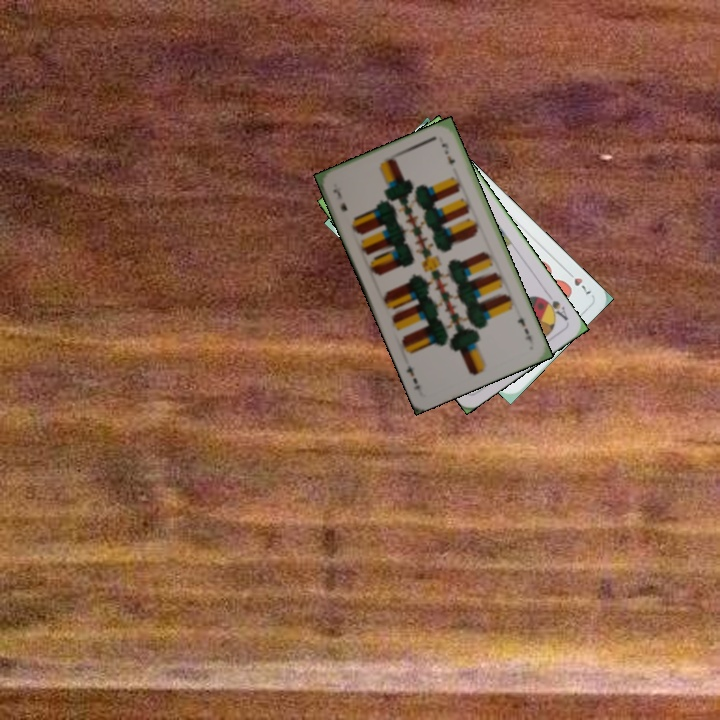E7: (513, 314, 535, 347), (329, 185, 350, 214)
H7: (562, 266, 594, 297)
SA: (537, 288, 571, 323)
